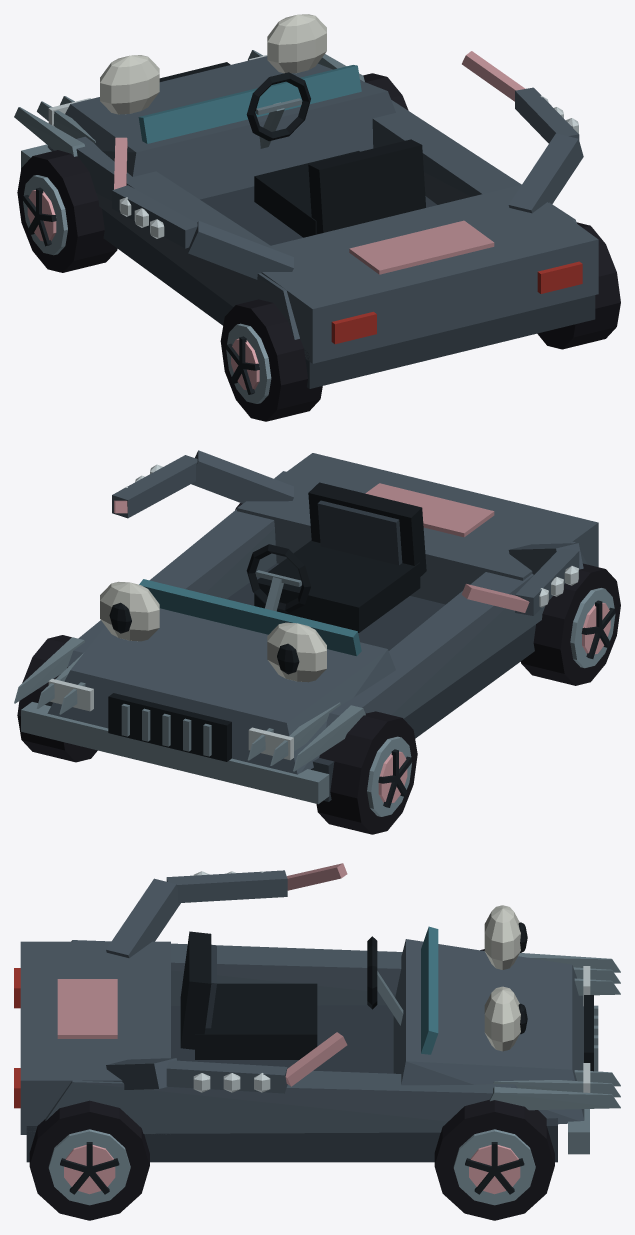
File: kart.glb
The picture shows the model from 3 angles, top to bottom: view 1: azimuth 30°, elevation 25°; view 2: azimuth 150°, elevation 25°; view 3: azimuth 270°, elevation 25°; orthographic projection.
Parts seen in each view (by area): view 1: identity-sedan-sedan-road-car-body, identity-sedan-driver-cockpit, identity-sedan-motif-tentacles, wheel-front-left, wheel-rear-left, identity-sedan-motif-eyes, wheel-rear-right, identity-sedan-motif-claws, wheel-front-right; view 2: identity-sedan-sedan-road-car-body, identity-sedan-driver-cockpit, identity-sedan-motif-tentacles, wheel-front-left, wheel-rear-left, identity-sedan-motif-eyes, identity-sedan-motif-claws, wheel-front-right; view 3: identity-sedan-sedan-road-car-body, identity-sedan-driver-cockpit, identity-sedan-motif-tentacles, wheel-front-right, wheel-rear-right, identity-sedan-motif-claws, identity-sedan-motif-eyes.
Part boxes in pixels (left/top/right/bottom): identity-sedan-sedan-road-car-body: left=21, top=55, right=598, bottom=388; identity-sedan-driver-cockpit: left=246, top=72, right=425, bottom=237; identity-sedan-motif-tentacles: left=112, top=51, right=583, bottom=279; wheel-front-left: left=17, top=150, right=117, bottom=272; wheel-rear-left: left=220, top=299, right=322, bottom=421; identity-sedan-motif-eyes: left=100, top=14, right=326, bottom=114; wheel-rear-right: left=537, top=222, right=620, bottom=349; identity-sedan-motif-claws: left=14, top=50, right=364, bottom=156; wheel-front-right: left=363, top=73, right=408, bottom=110; identity-sedan-sedan-road-car-body: left=21, top=453, right=598, bottom=804; identity-sedan-driver-cockpit: left=246, top=482, right=426, bottom=632; identity-sedan-motif-tentacles: left=112, top=450, right=583, bottom=615; wheel-front-left: left=316, top=711, right=417, bottom=834; wheel-rear-left: left=520, top=563, right=620, bottom=685; identity-sedan-motif-eyes: left=100, top=581, right=326, bottom=682; identity-sedan-motif-claws: left=14, top=637, right=365, bottom=771; wheel-front-right: left=17, top=635, right=97, bottom=762; identity-sedan-sedan-road-car-body: left=14, top=926, right=598, bottom=1162; identity-sedan-driver-cockpit: left=180, top=931, right=403, bottom=1059; identity-sedan-motif-tentacles: left=106, top=863, right=347, bottom=1093; wheel-front-right: left=434, top=1099, right=554, bottom=1220; wheel-rear-right: left=29, top=1100, right=149, bottom=1220; identity-sedan-motif-claws: left=489, top=953, right=620, bottom=1110; identity-sedan-motif-eyes: left=484, top=905, right=527, bottom=1051.
Bounding box in the file's own units: 2.45 × 1.09 × 3.03.
